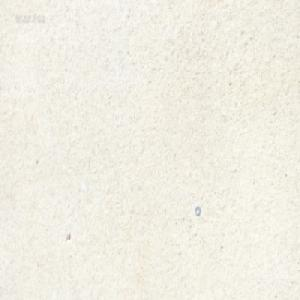Washer: (194, 205, 200, 216)
